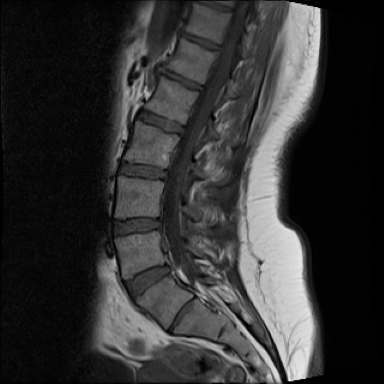Degenerative Disc Disease (DDD): (153, 63, 212, 96), (161, 292, 200, 341), (198, 2, 238, 15)
Normal IVD: (118, 257, 172, 304), (103, 207, 168, 243), (132, 106, 189, 140), (112, 157, 174, 185)
Spinal Stenosis (SS): (211, 42, 231, 59)
Thoracic Disc Bulge (TDB): (178, 30, 231, 57)
